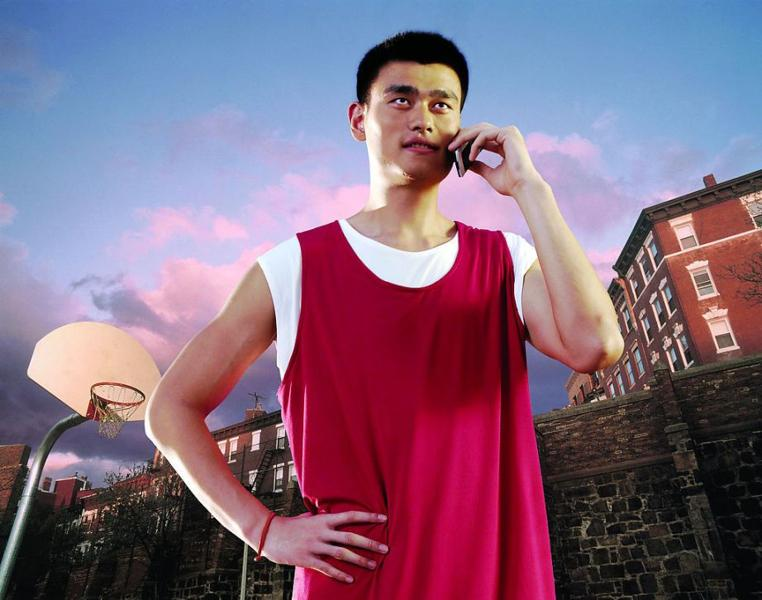person: (145, 30, 623, 599)
